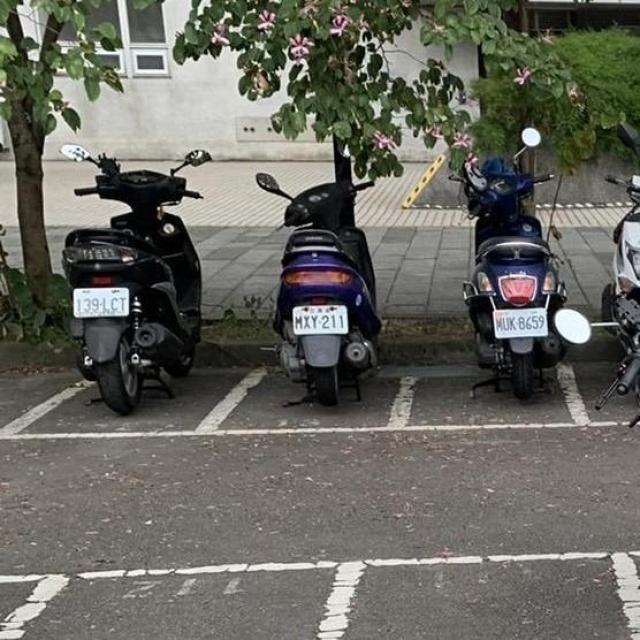W: (283, 298, 355, 341), (66, 281, 134, 324), (486, 304, 555, 342)
